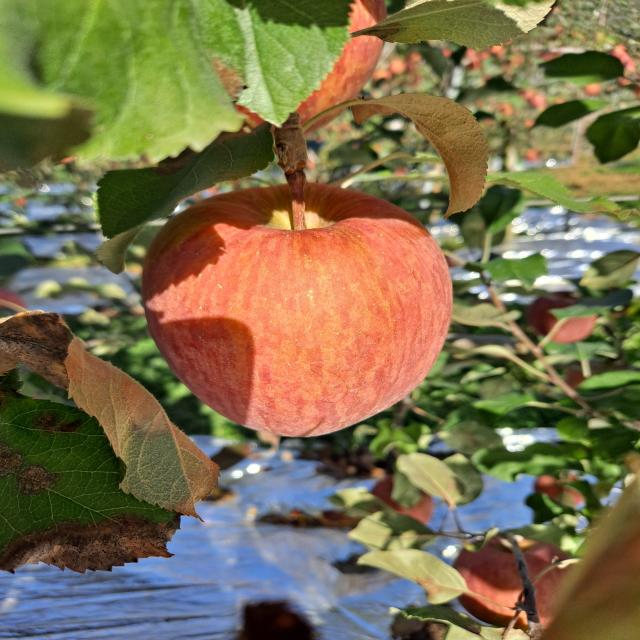fresh: (134, 174, 462, 446)
